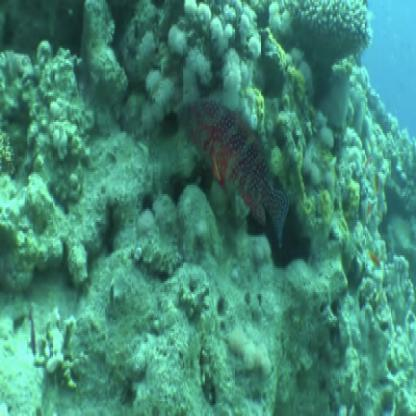Bio: (174, 90, 290, 250)
